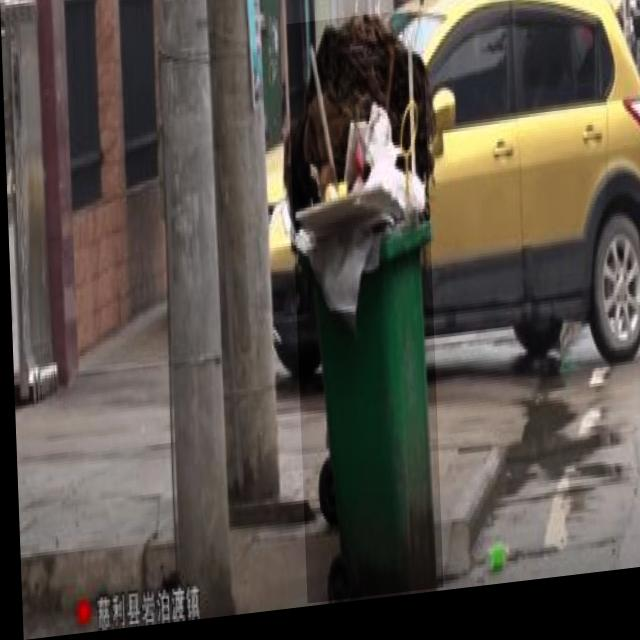overflow: (286, 19, 439, 611)
